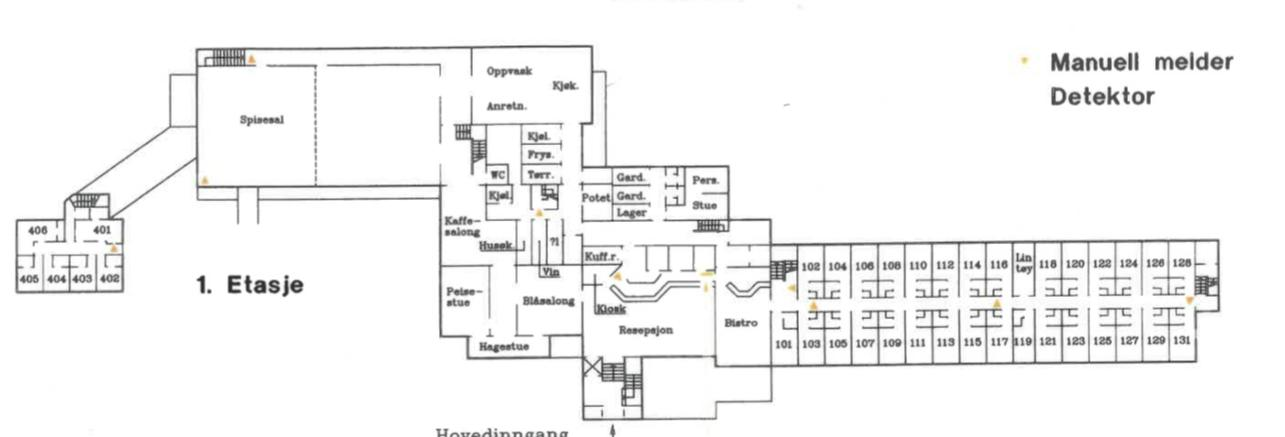room: (517, 264, 582, 336), (824, 244, 852, 299), (850, 244, 878, 299), (904, 243, 932, 298), (797, 311, 825, 366), (905, 310, 933, 365), (1034, 308, 1062, 363), (1142, 307, 1170, 362), (1088, 243, 1116, 297), (770, 311, 798, 365), (824, 311, 852, 365), (851, 311, 879, 365), (932, 310, 960, 364), (959, 310, 987, 364), (932, 243, 959, 298), (1062, 308, 1089, 363), (1169, 307, 1196, 362), (1061, 243, 1089, 296), (797, 244, 824, 298), (959, 243, 986, 297), (986, 309, 1013, 363), (1089, 308, 1116, 362), (878, 244, 904, 299), (1116, 307, 1142, 362), (986, 243, 1012, 297), (1142, 243, 1169, 295), (1168, 243, 1195, 295), (879, 311, 905, 365), (1035, 243, 1061, 296), (1116, 243, 1142, 296), (1012, 243, 1035, 297), (1012, 309, 1035, 363), (75, 219, 122, 243), (17, 220, 65, 242), (69, 254, 97, 291), (17, 254, 44, 292), (43, 254, 70, 291), (97, 254, 123, 291), (523, 122, 562, 144), (521, 163, 561, 184), (521, 144, 561, 162), (667, 245, 693, 270), (693, 244, 714, 270), (646, 246, 668, 270)
